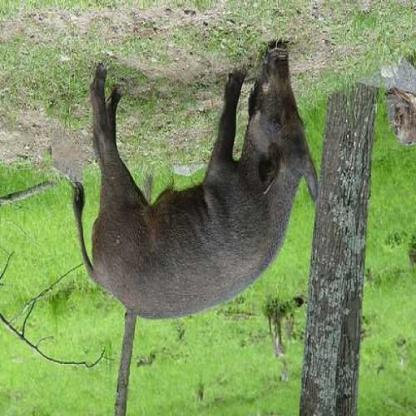boar: (49, 42, 306, 337)
